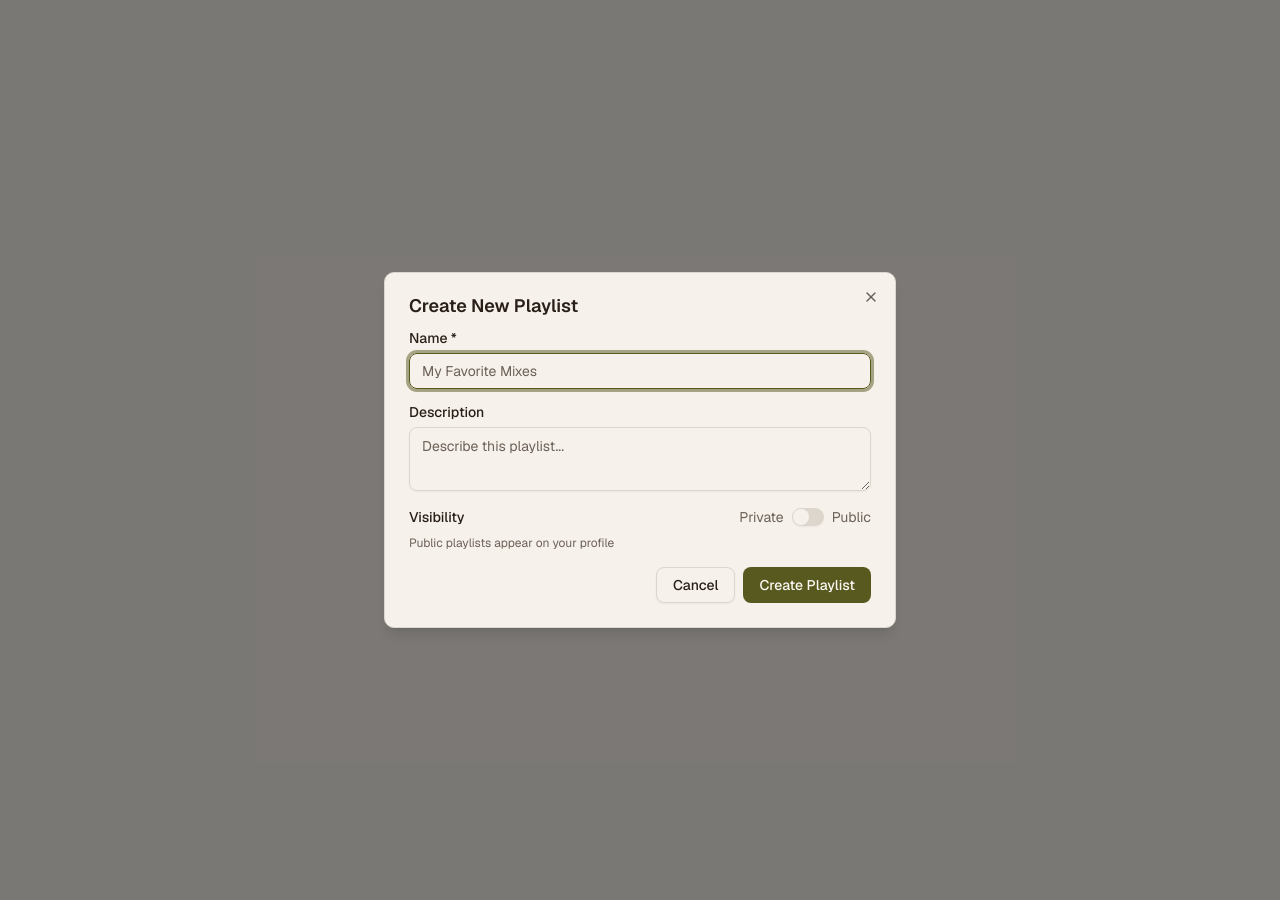
Test: CreatePlaylistDialog › should disable submit button while saving
Type "Test" into the field labelled "Name *". click: (640, 371)
box: 409,353 -> 871,389
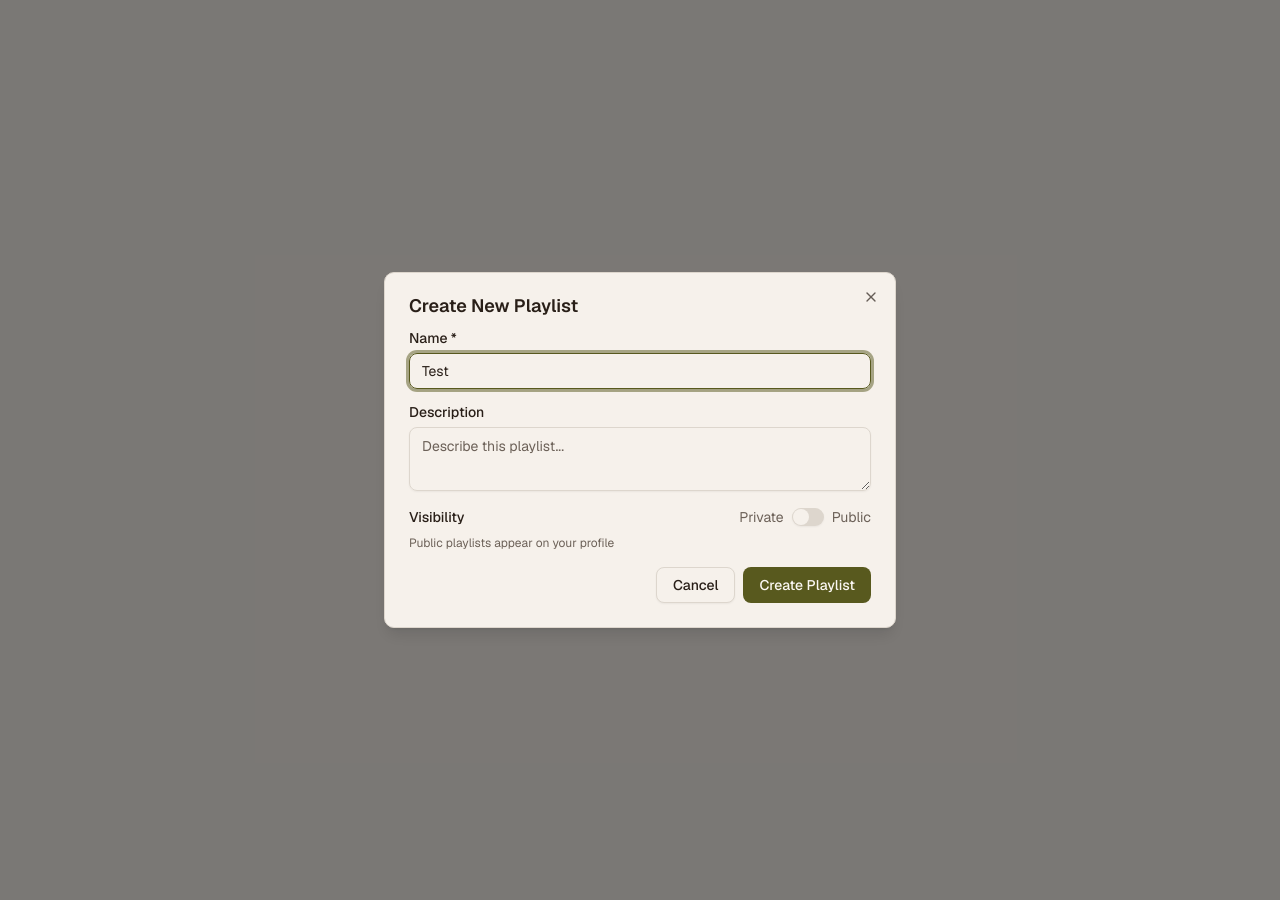
Click the button "Create Playlist". click: (807, 585)
box: 744,567 -> 871,603
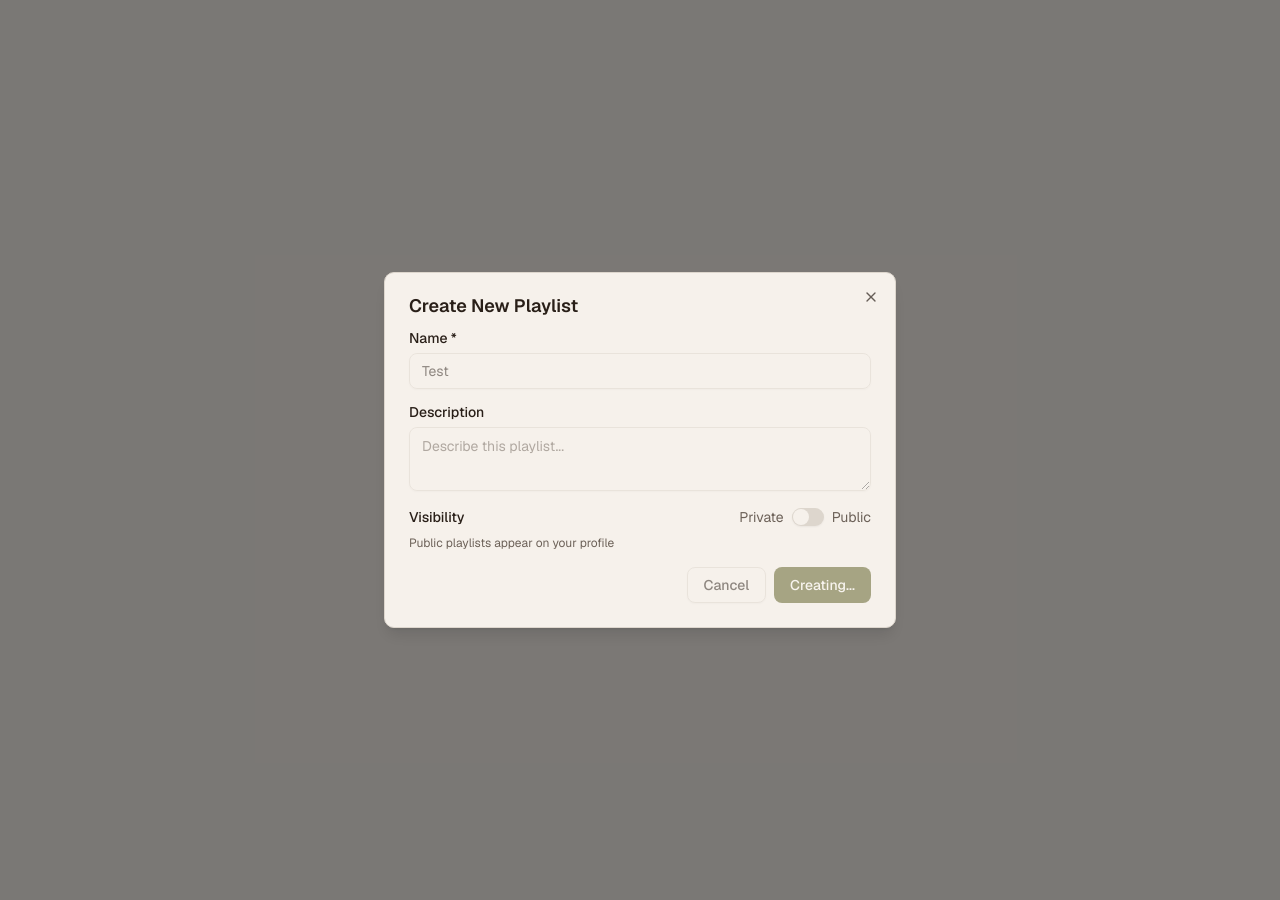
Expected: the button named "create" is disabled, 774,567 -> 871,603
